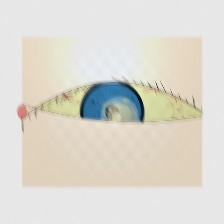corneal_ulcer: (100, 99, 139, 131)
